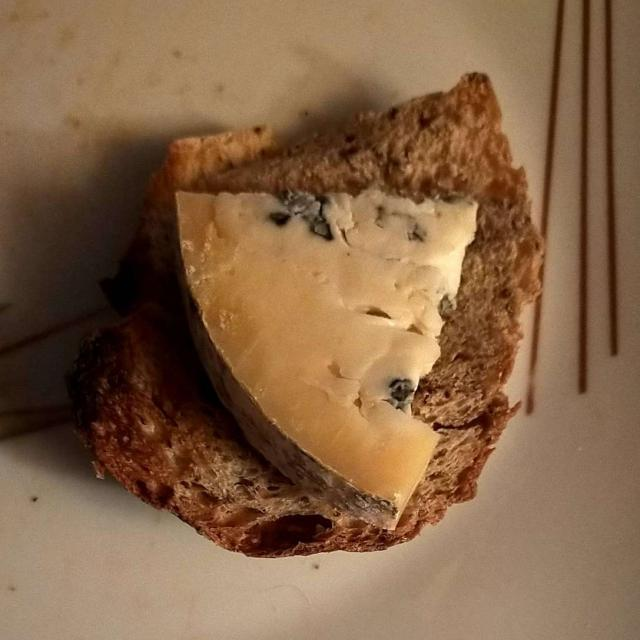bread: (75, 79, 537, 553)
cheese: (182, 189, 498, 530)
